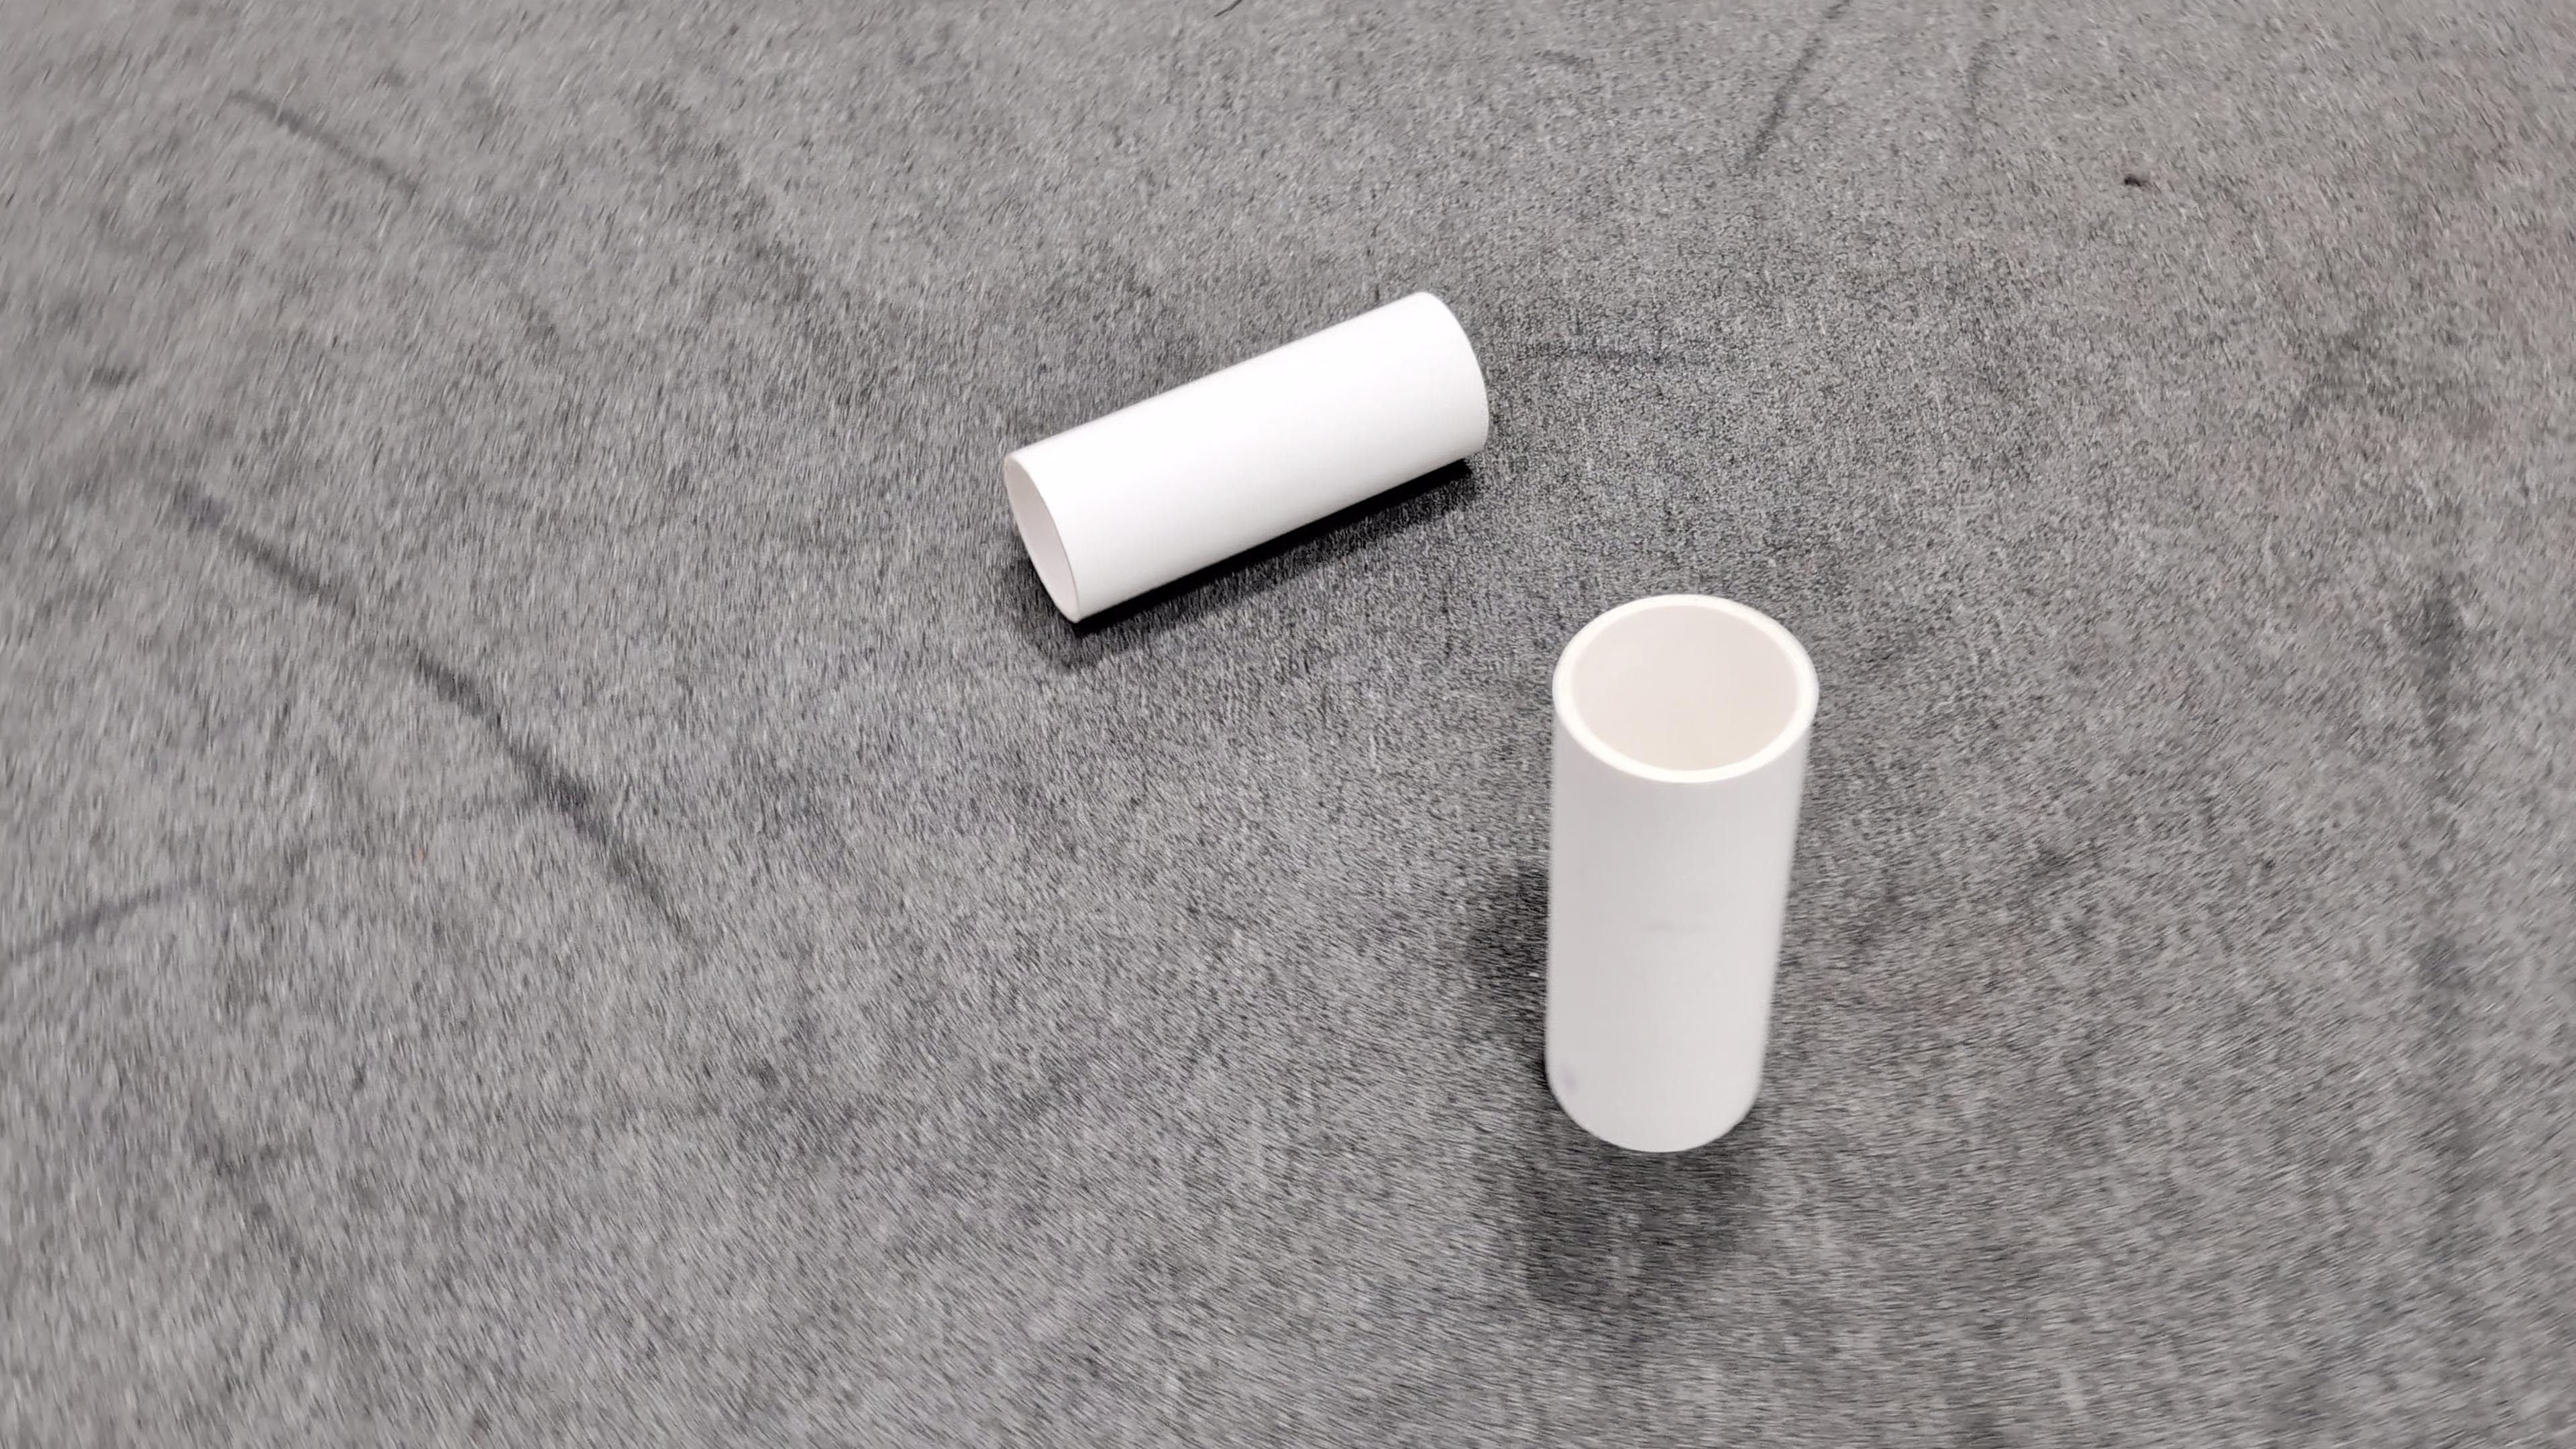coral: (1000, 287, 1493, 625), (1537, 591, 1821, 1152)
